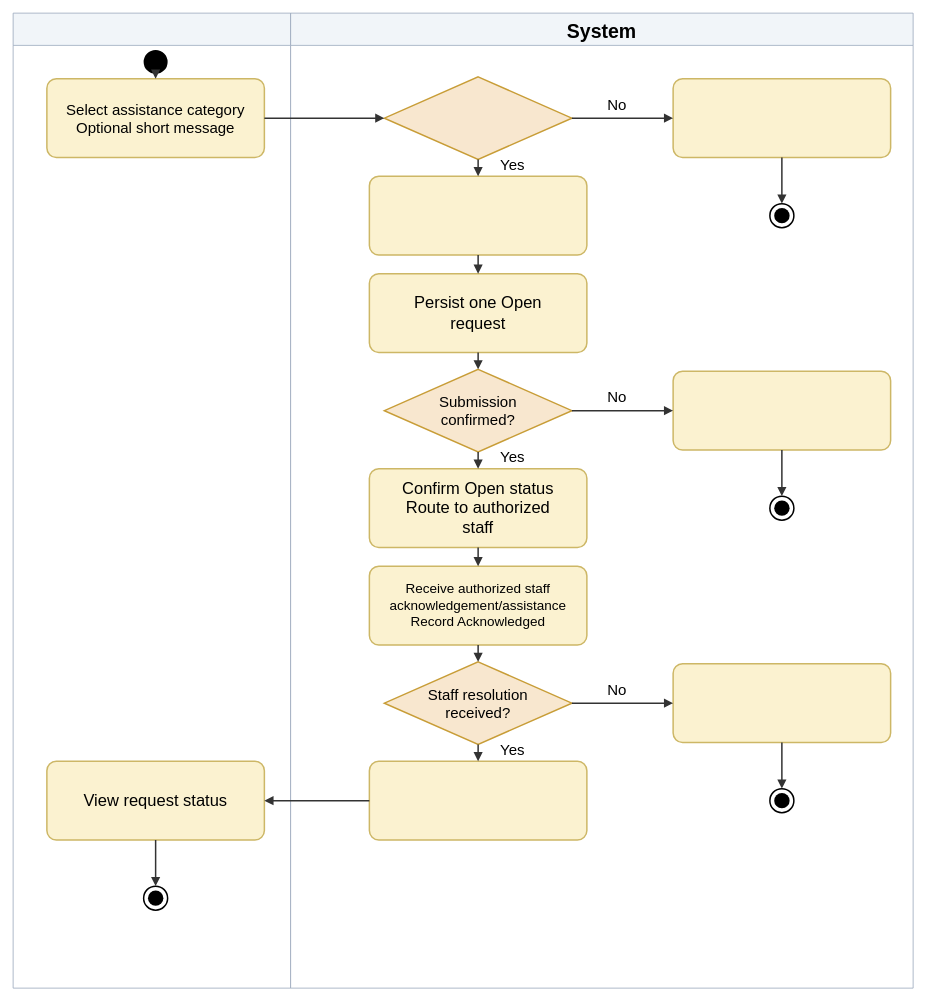
This 926x1001 diagram has some shape labels left out. The box of each missing label's shape, as (x1, y1, x2, y2) in pixels:
Attach permitted context Visit/step/location if available Visit is optional (A1): (368, 175, 587, 255)
Keep current status Route/escalate within scope when requested (A2): (672, 663, 891, 743)
Patient: (12, 12, 291, 988)
Record authorized resolution Set Resolved: (368, 760, 587, 840)
Require valid access (E1) Offer manual help information: (672, 78, 891, 158)
Submission failure (E2) Offer retry and manual help No false confirmation: (672, 370, 891, 450)
Valid patient context?: (383, 76, 572, 160)
